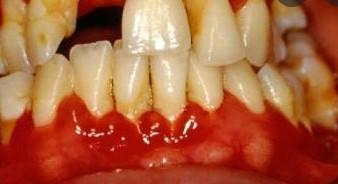Gingivitis: (53, 102, 215, 158)
